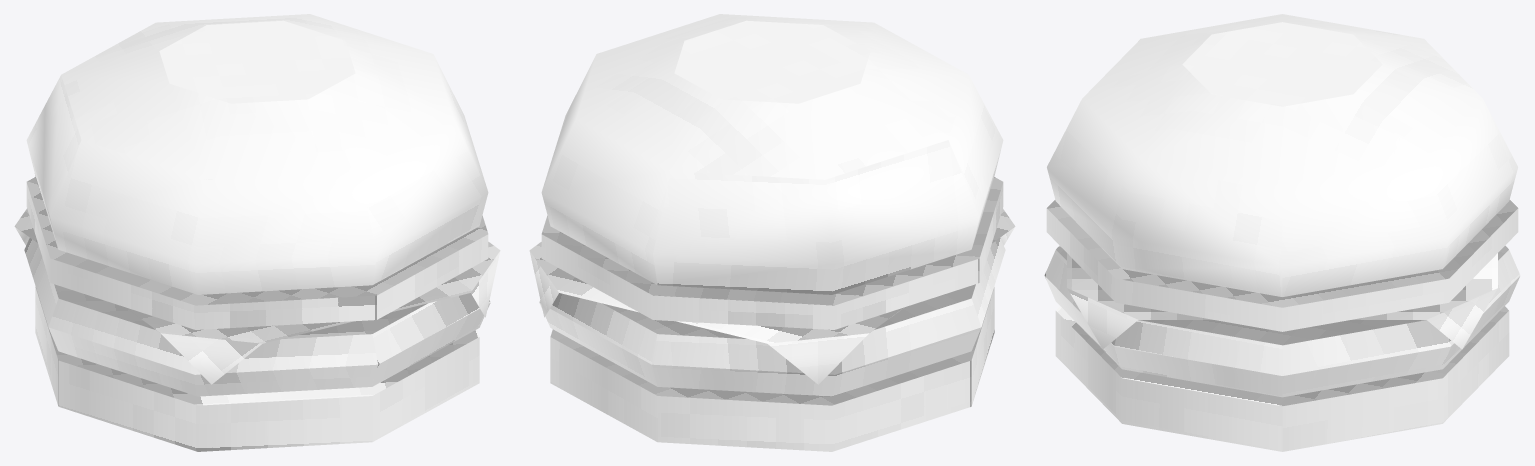
The model's file is Hamburger.glb.
3 renders of one model, left to right at view 1: azimuth 30°, elevation 25°; view 2: azimuth 150°, elevation 25°; view 3: azimuth 270°, elevation 25°, orthographic.
Visible parts, largest first — view 1: Hamburger, Hamburger.001, Hamburger.002, Hamburger.003; view 2: Hamburger, Hamburger.001, Hamburger.002, Hamburger.003; view 3: Hamburger, Hamburger.001, Hamburger.002, Hamburger.003.
Part boxes in pixels (box(x1,y1,x2,y2)): Hamburger: box(26, 14, 488, 451); Hamburger.001: box(24, 238, 490, 396); Hamburger.002: box(26, 177, 488, 329); Hamburger.003: box(14, 208, 500, 384); Hamburger: box(541, 14, 1003, 451); Hamburger.001: box(539, 238, 1005, 396); Hamburger.002: box(541, 177, 1003, 329); Hamburger.003: box(529, 208, 1015, 384); Hamburger: box(1047, 14, 1517, 451); Hamburger.001: box(1044, 245, 1520, 397); Hamburger.002: box(1046, 200, 1518, 331); Hamburger.003: box(1067, 253, 1497, 349).
Size of the model in its own units: 0.1749 by 0.1183 by 0.1749.
Materials: 1 (1 with a texture image).
